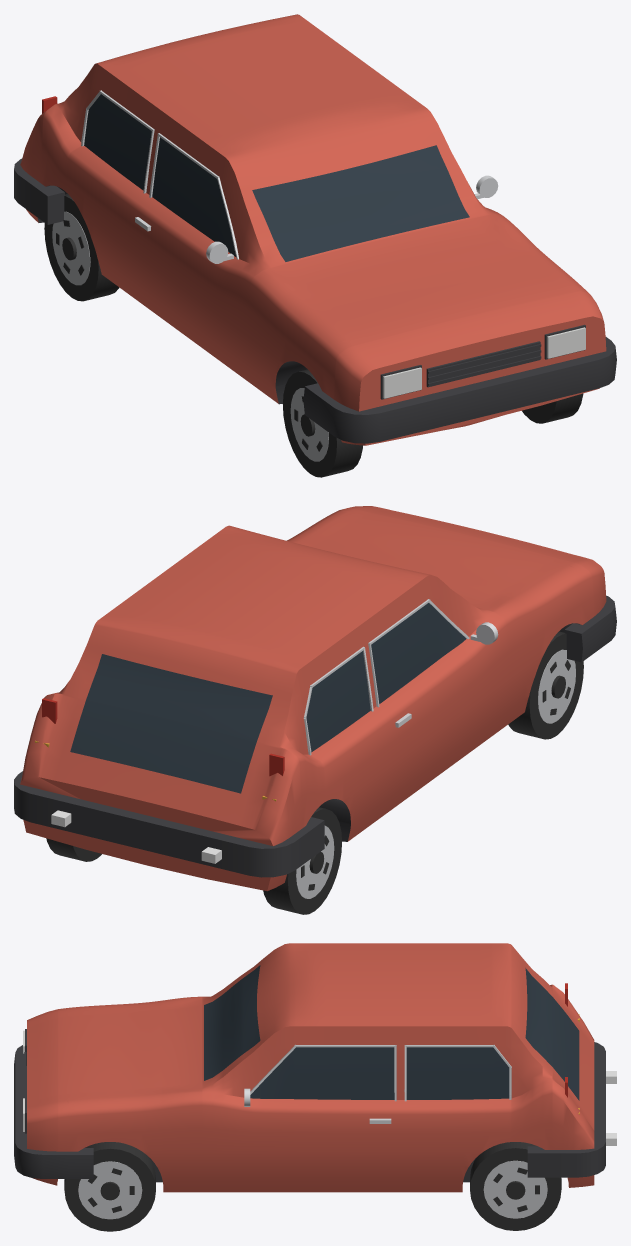
File: renault5.glb
3 views of the same model, one above another, from view 1: azimuth 30°, elevation 25°; view 2: azimuth 150°, elevation 25°; view 3: azimuth 270°, elevation 25° (orthographic). The views are drawn at different scales.
Visible parts, largest first — view 1: paint, glass, trim, wheel_rr, wheel_fr, headlights, wheel_fl, mirrors; view 2: paint, glass, trim, wheel_fr, wheel_rr, taillights, wheel_rl, reverse_lights; view 3: paint, glass, trim, wheel_fl, wheel_rl.
Part boxes in pixels (x1,y1,x2,y2): paint: (20,14,606,445); glass: (84,94,469,261); trim: (14,90,616,443); wheel_rr: (44,193,119,301); wheel_fr: (283,369,362,477); headlights: (383,327,585,398); wheel_fl: (522,393,583,423); mirrors: (206,175,498,263); paint: (20,506,606,891); glass: (70,603,466,793); trim: (14,595,616,877); wheel_fr: (508,631,583,739); wheel_rr: (263,807,341,914); taillights: (42,698,284,776); wheel_rl: (46,838,101,861); reverse_lights: (51,810,221,863); paint: (27,943,594,1192); glass: (204,965,579,1100); trim: (14,1029,605,1178); wheel_fl: (64,1142,155,1231); wheel_rl: (470,1142,561,1230).
Size of the model in its own units: 1.69 by 1.33 by 3.62.
